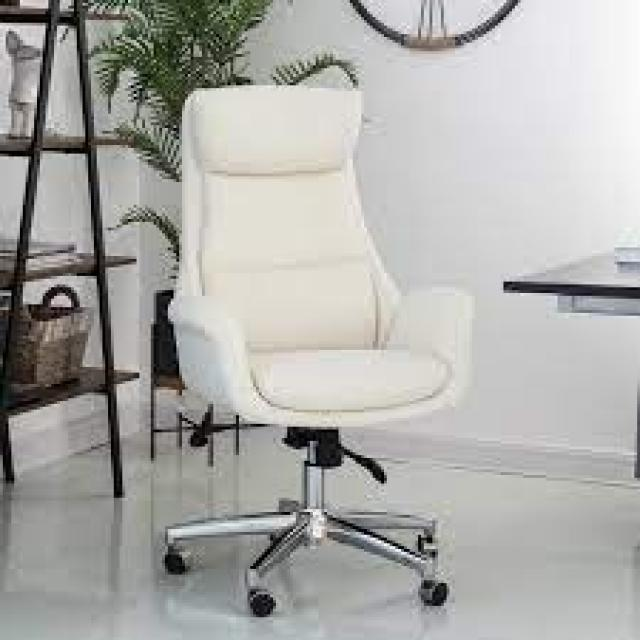chair: (116, 61, 508, 640)
